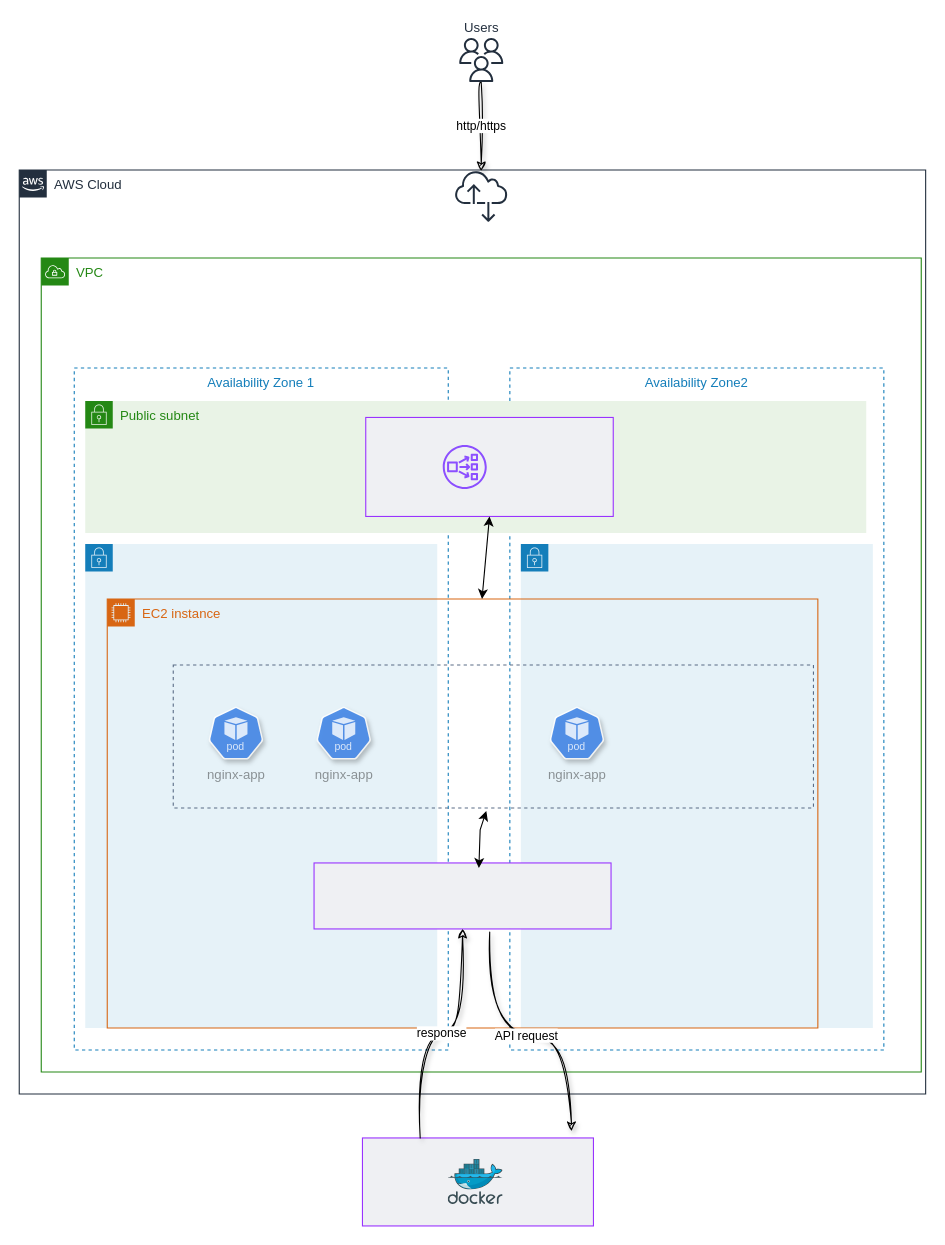
Some shapes in this 945 by 1245 pixel diagram are drawn without their labels. The shapes that lost their labels are listed below. From the top down, each one's centre as x and y in pixels, then its label:
point 480,195: Internet Gateway
point 464,466: Network Load Balancer
point 260,785: Private Subnet 1
point 696,785: Private Subnet 2
point 462,895: Nat Gateway
